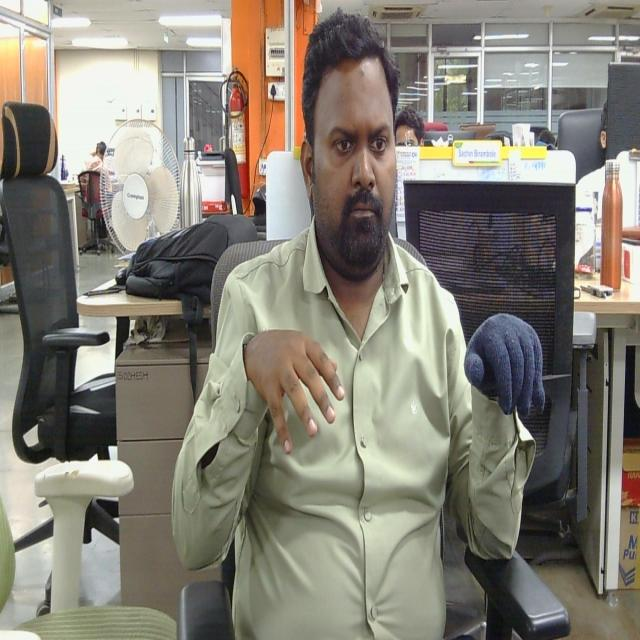Gloves-Detection: (463, 310, 548, 415)
